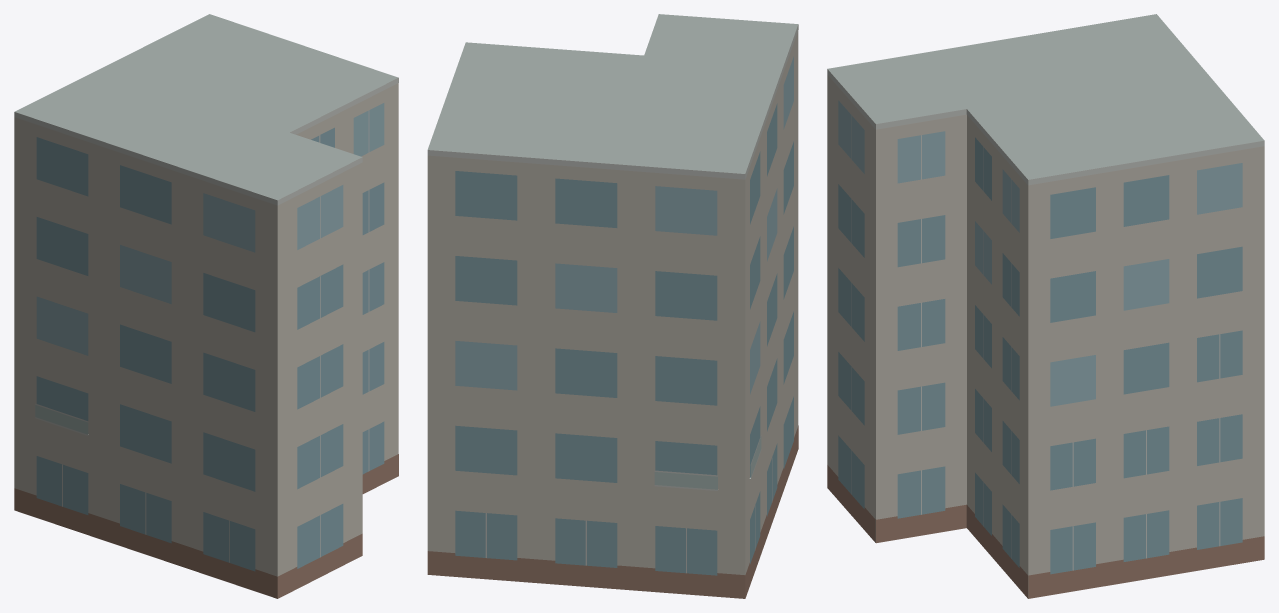
The model's file is survey-upis-32864503.glb.
3 views of the same model, side by side, from view 1: azimuth 30°, elevation 25°; view 2: azimuth 150°, elevation 25°; view 3: azimuth 270°, elevation 25° (orthographic). The views are drawn at different scales.
Visible parts, largest first — view 1: survey-upis-32864503.tmp; view 2: survey-upis-32864503.tmp; view 3: survey-upis-32864503.tmp.
Boxes of the visible parts, x1,y1,x2,y2 form: survey-upis-32864503.tmp: (14, 14, 398, 598); survey-upis-32864503.tmp: (427, 14, 798, 598); survey-upis-32864503.tmp: (827, 14, 1264, 598).
Size of the model in its own units: 15.72 by 18.5 by 17.51.
